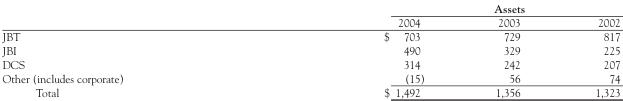table: (1, 1, 619, 98)
table column: (1, 1, 253, 98), (253, 1, 459, 98), (459, 1, 557, 98), (557, 1, 619, 98)
table column header: (1, 1, 619, 28)
table row: (1, 1, 619, 15), (1, 28, 619, 42), (1, 42, 619, 56), (1, 56, 619, 70), (1, 70, 619, 84), (1, 84, 619, 98), (1, 15, 619, 28)
table spanning cell: (253, 1, 619, 15)
